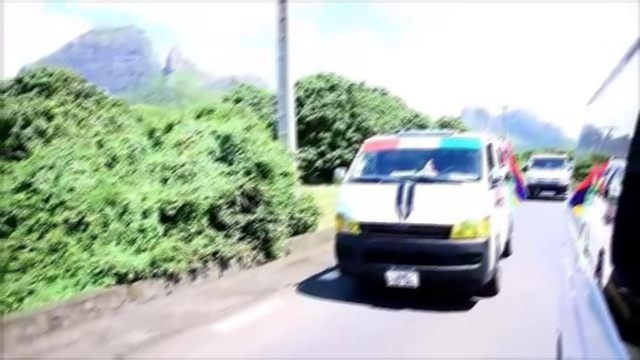van: (327, 132, 518, 295)
